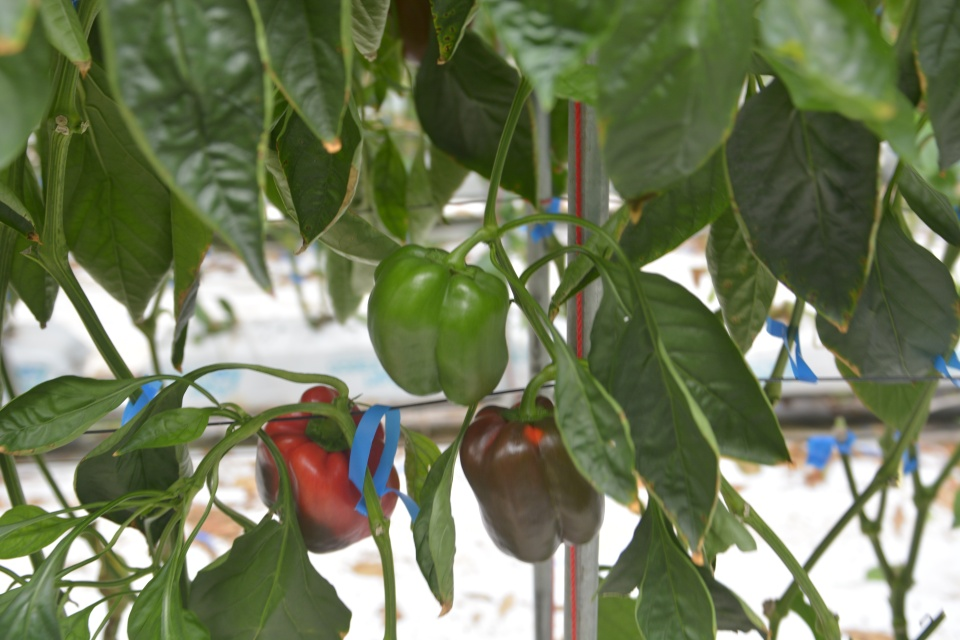fruit: (253, 386, 401, 553), (459, 400, 607, 566), (365, 245, 514, 408)
pedicle: (304, 412, 351, 452), (435, 252, 474, 280), (509, 405, 554, 424)
